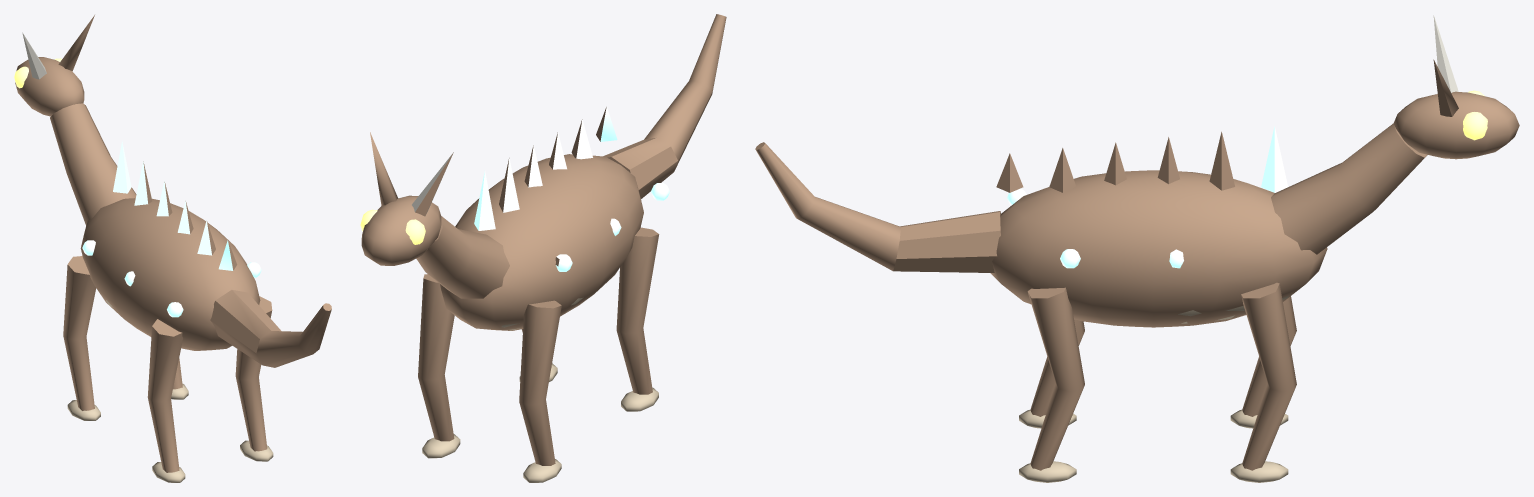
Rendered from creature_strider.glb.
The picture shows the model from 3 angles, left to right: view 1: azimuth 30°, elevation 25°; view 2: azimuth 150°, elevation 25°; view 3: azimuth 270°, elevation 25°; orthographic projection. The views are drawn at different scales.
Visible parts, largest first — view 1: Creature_Body, Creature_LegBL, Creature_LegFL, Creature_LegBR, Creature_LegFR; view 2: Creature_Body, Creature_LegFL, Creature_LegBL, Creature_LegFR; view 3: Creature_Body, Creature_LegFR, Creature_LegBR, Creature_LegFL, Creature_LegBL.
Part boxes in pixels (bbox=[...]): Creature_Body: bbox=[14, 15, 331, 367]; Creature_LegBL: bbox=[147, 319, 185, 482]; Creature_LegFL: bbox=[63, 256, 100, 420]; Creature_LegBR: bbox=[235, 296, 273, 461]; Creature_LegFR: bbox=[171, 358, 188, 399]; Creature_Body: bbox=[360, 14, 726, 330]; Creature_LegFL: bbox=[519, 300, 561, 482]; Creature_LegBL: bbox=[616, 227, 659, 411]; Creature_LegFR: bbox=[418, 274, 460, 458]; Creature_Body: bbox=[755, 15, 1519, 327]; Creature_LegFR: bbox=[1230, 282, 1296, 482]; Creature_LegBR: bbox=[1019, 287, 1084, 482]; Creature_LegFL: bbox=[1230, 296, 1296, 428]; Creature_LegBL: bbox=[1019, 319, 1084, 428].
Size of the model in its own units: 1.11 by 3.04 by 5.05.
